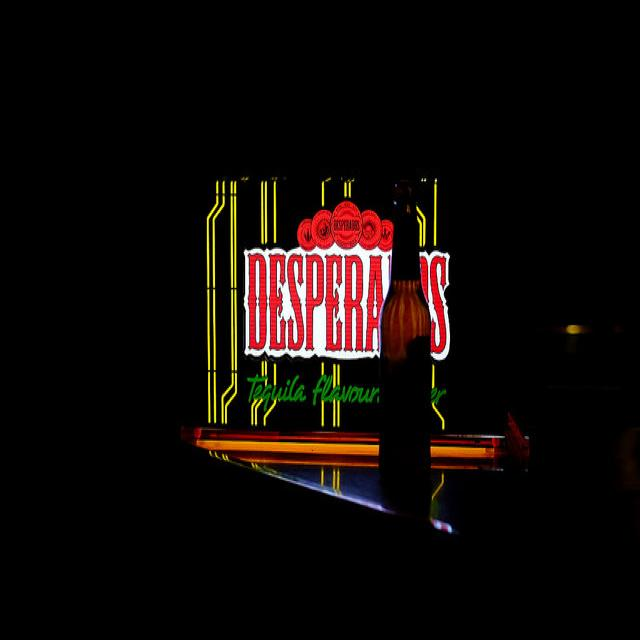Bottle: (373, 165, 447, 568)
